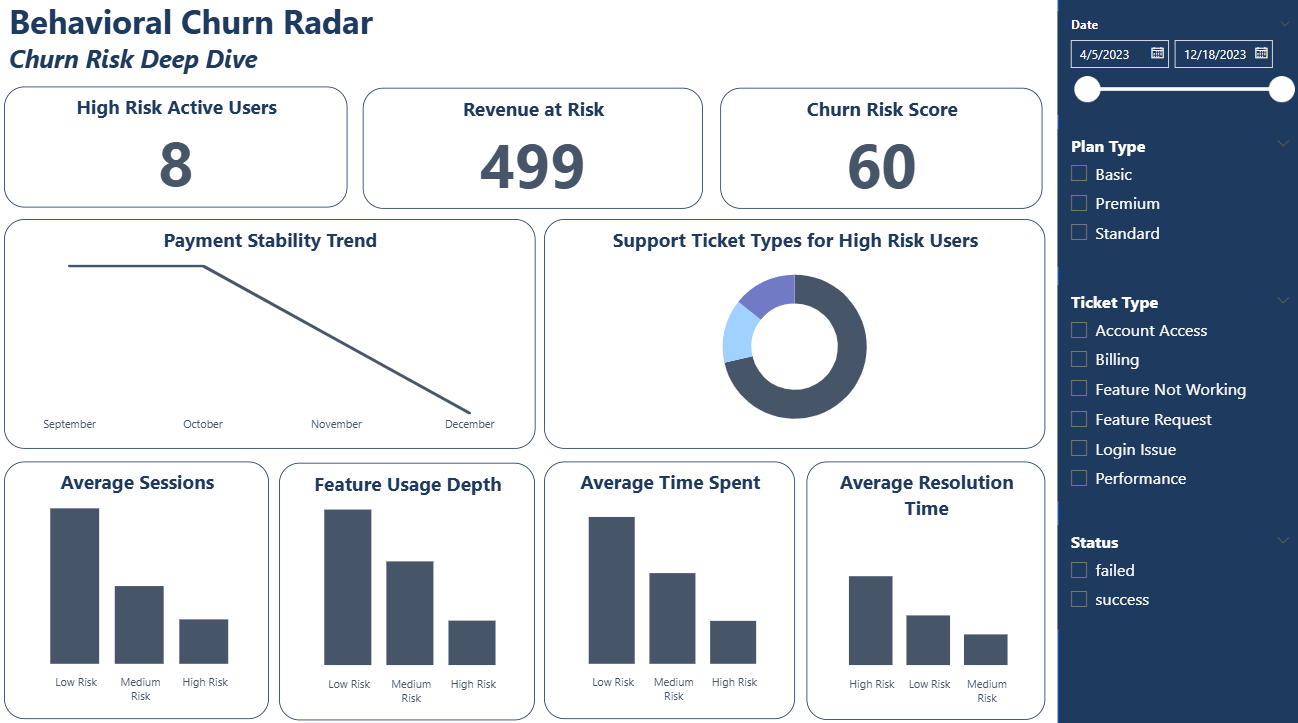

The page's visual inventory and layout, read from the dashboard file:
{"tool":"powerbi","page":{"name":"Churn Risk Deep Dive","canvas":[1280,720],"ordinal":2},"visuals":[{"type":"textbox","box":[9.8,0,386.4,90.5],"z":0},{"type":"shape","box":[1040.6,0,239.7,720.2],"z":1000},{"type":"clusteredColumnChart","title":"Feature Usage Depth","fields":{"Category":["Subscriptions.Churn Risk Group"],"Y":["Avg(User Activity.Features Used)"]},"box":[278.8,458.6,250.7,251.9],"z":2000},{"type":"slicer","fields":{"Values":["Subscriptions.Plan Type"]},"box":[1040.6,132.1,239.7,134.5],"z":3000},{"type":"slicer","fields":{"Values":["Support Tickets.Ticket Type"]},"box":[1040.6,284.9,239.7,211.6],"z":4000},{"type":"slicer","fields":{"Values":["Payments.Status"]},"box":[1040.6,519.7,239.7,101.5],"z":5000},{"type":"slicer","fields":{"Values":["Subscriptions.Subscription End Date"]},"box":[1040.6,17.1,239.7,100.3],"z":6000},{"type":"clusteredColumnChart","title":"Average Time Spent","fields":{"Category":["Subscriptions.Churn Risk Group"],"Y":["Avg(User Activity.Time Spent Minutes)"]},"box":[538,457.3,245.8,251.9],"z":7000},{"type":"clusteredColumnChart","title":"Average Resolution Time","fields":{"Category":["Subscriptions.Churn Risk Group"],"Y":["Avg(Support Tickets.Resolution Time Hours)"]},"box":[794.8,457.3,233.6,253.1],"z":8000},{"type":"lineChart","title":"Payment Stability Trend","fields":{"Category":["Payments.Payment Date.Variation.Date Hierarchy.Month"],"Y":["CountNonNull(Payments.Payment Date)"]},"box":[9.8,220.1,519.7,225],"z":9000},{"type":"donutChart","title":"Support Ticket Types for High Risk Users","fields":{"Category":["Support Tickets.Ticket Type"],"Y":["CountNonNull(Support Tickets.Ticket Type)"]},"box":[538,220.1,490.4,225],"z":10000},{"type":"clusteredColumnChart","title":"Average Sessions","fields":{"Category":["Subscriptions.Churn Risk Group"],"Y":["Avg(User Activity.Sessions)"]},"box":[9.8,457.3,259.2,251.9],"z":11000},{"type":"card","title":"High Risk Active Users","fields":{"Values":["CountNonNull(Subscriptions.User Id)"]},"box":[9.8,90.5,336.3,118.6],"z":12000},{"type":"card","title":"Revenue at Risk","fields":{"Values":["Sum(Subscriptions.Monthly Revenue)"]},"box":[360.7,91.7,332.6,118.6],"z":13000},{"type":"card","title":"Churn Risk Score","fields":{"Values":["Subscriptions.Churn Risk Score"]},"box":[710.5,91.7,315.5,118.6],"z":14000}]}

Visuals, with their boxes in screenshot pixels (x1, y1, x2, y2), scaled from the page's 1280x720 canvas onto the 1298x723 screenshot:
textbox: [left=10, top=0, right=402, bottom=91]
shape: [left=1055, top=0, right=1297, bottom=722]
"Feature Usage Depth" clusteredColumnChart: [left=283, top=461, right=537, bottom=713]
slicer - Subscriptions.Plan Type: [left=1055, top=133, right=1297, bottom=268]
slicer - Support Tickets.Ticket Type: [left=1055, top=286, right=1297, bottom=499]
slicer - Payments.Status: [left=1055, top=522, right=1297, bottom=624]
slicer - Subscriptions.Subscription End Date: [left=1055, top=17, right=1297, bottom=118]
"Average Time Spent" clusteredColumnChart: [left=546, top=459, right=795, bottom=712]
"Average Resolution Time" clusteredColumnChart: [left=806, top=459, right=1043, bottom=713]
"Payment Stability Trend" lineChart: [left=10, top=221, right=537, bottom=447]
"Support Ticket Types for High Risk Users" donutChart: [left=546, top=221, right=1043, bottom=447]
"Average Sessions" clusteredColumnChart: [left=10, top=459, right=273, bottom=712]
"High Risk Active Users" card: [left=10, top=91, right=351, bottom=210]
"Revenue at Risk" card: [left=366, top=92, right=703, bottom=211]
"Churn Risk Score" card: [left=720, top=92, right=1040, bottom=211]
